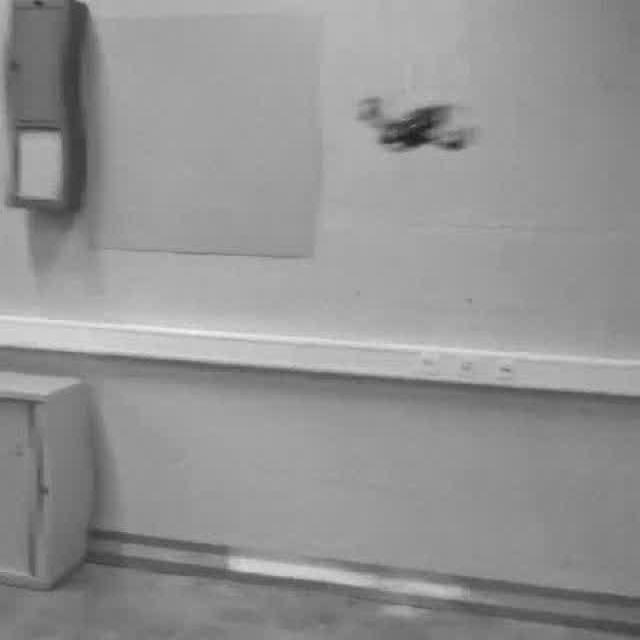drone: (348, 90, 491, 162)
